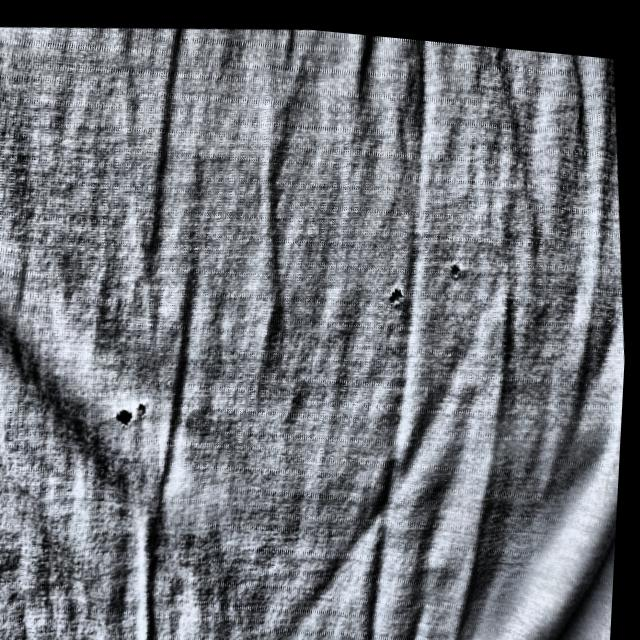Hole: (381, 268, 416, 306), (444, 243, 471, 279), (115, 396, 140, 434), (136, 394, 154, 414)
